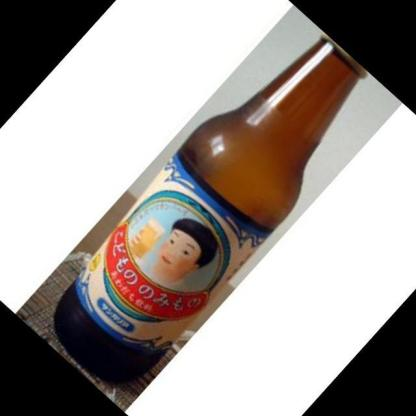Can: (55, 35, 368, 384)
